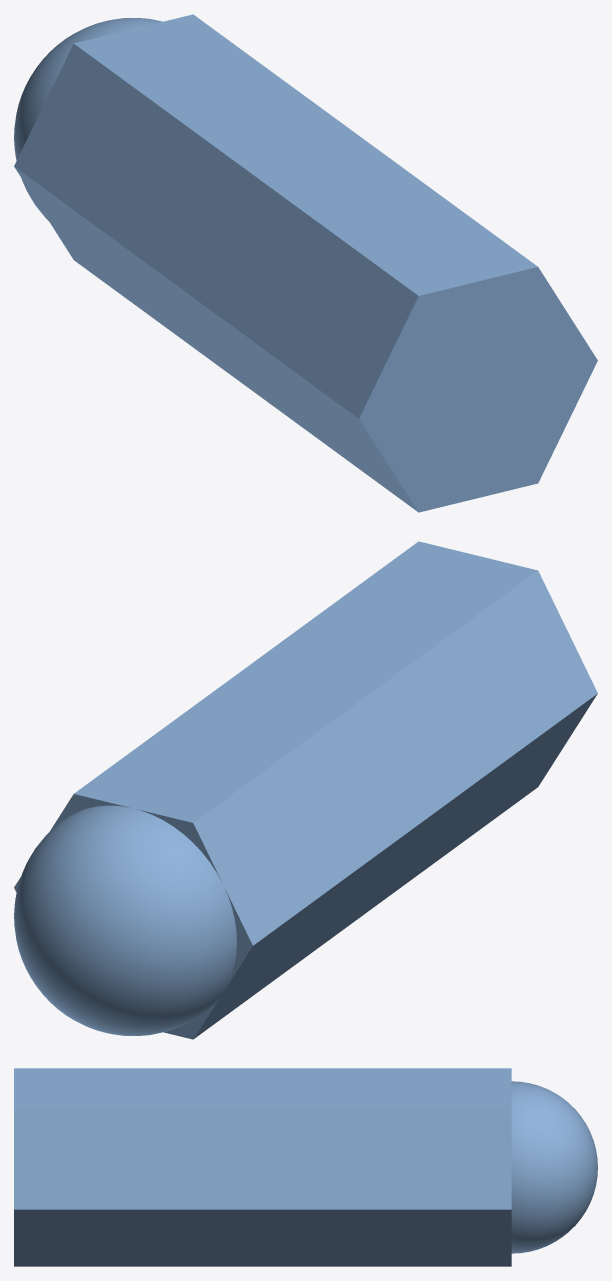
The model's file is peg_semisphere.obj.
The picture shows the model from 3 angles, top to bottom: view 1: azimuth 30°, elevation 25°; view 2: azimuth 150°, elevation 25°; view 3: azimuth 270°, elevation 25°; orthographic projection. The views are drawn at different scales.
Parts seen in each view (by area): view 1: mesh12, mesh3, mesh5, mesh11, mesh10; view 2: mesh12, mesh3, mesh10, mesh11, mesh4, mesh13, mesh2; view 3: mesh1, mesh6, mesh3, mesh10.
Part boxes in pixels (x1=…): mesh12: x1=14, y1=44, x2=418, y2=418; mesh3: x1=74, y1=14, x2=537, y2=295; mesh5: x1=359, y1=267, x2=597, y2=512; mesh11: x1=14, y1=167, x2=417, y2=511; mesh10: x1=14, y1=18, x2=162, y2=220; mesh12: x1=193, y1=571, x2=597, y2=945; mesh3: x1=74, y1=541, x2=537, y2=822; mesh10: x1=14, y1=805, x2=236, y2=1035; mesh11: x1=194, y1=694, x2=597, y2=1038; mesh4: x1=138, y1=809, x2=221, y2=881; mesh13: x1=225, y1=889, x2=252, y2=988; mesh2: x1=50, y1=794, x2=129, y2=830; mesh1: x1=14, y1=1110, x2=511, y2=1209; mesh6: x1=14, y1=1209, x2=511, y2=1266; mesh3: x1=14, y1=1068, x2=511, y2=1110; mesh10: x1=511, y1=1081, x2=597, y2=1253.
Bounding box in the file's own units: 0.04 × 0.0346 × 0.1173.
